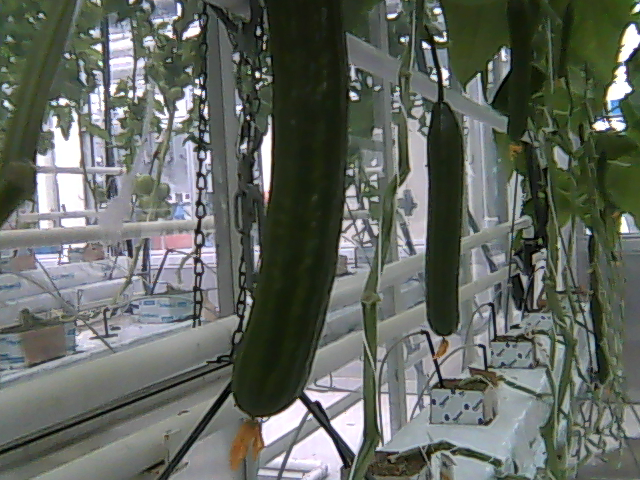concombre: (225, 1, 353, 472), (421, 90, 463, 363)
